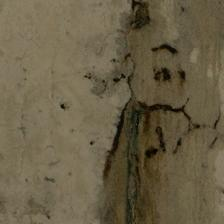Crack: (24, 63, 115, 158), (72, 56, 102, 99), (22, 70, 54, 104), (115, 52, 134, 70)
